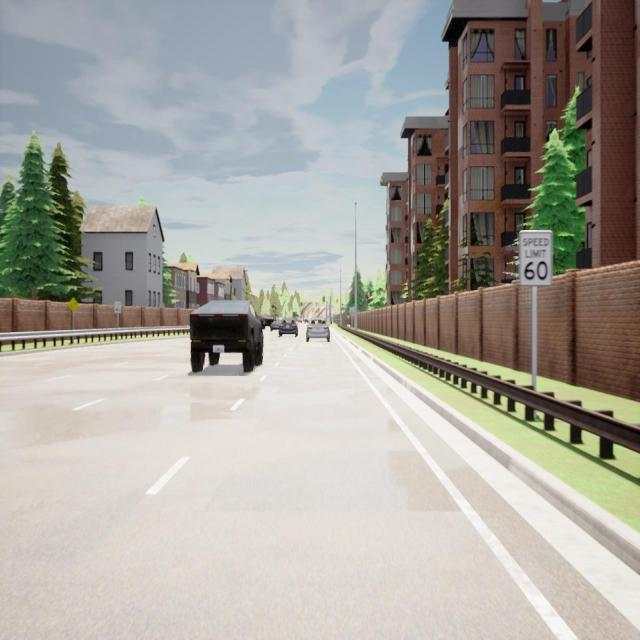Traffic_Signs: (520, 231, 552, 285), (68, 297, 78, 312), (114, 301, 122, 313), (350, 307, 355, 315)
Vehicle: (190, 300, 264, 372), (306, 318, 330, 342), (279, 318, 298, 338), (258, 314, 274, 330), (270, 321, 280, 331)
